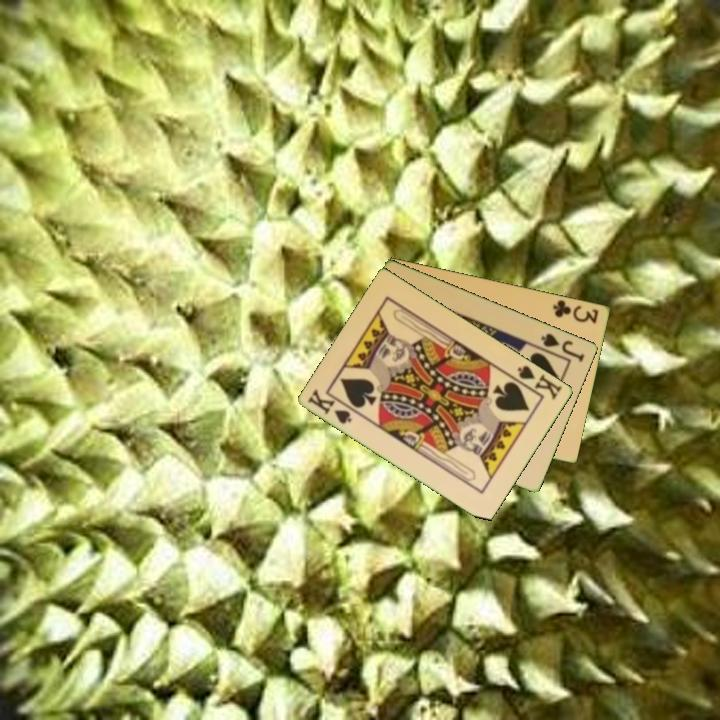3c: (549, 296, 602, 326)
Js: (538, 329, 588, 365)
Ks: (514, 361, 566, 403), (304, 385, 355, 427)
